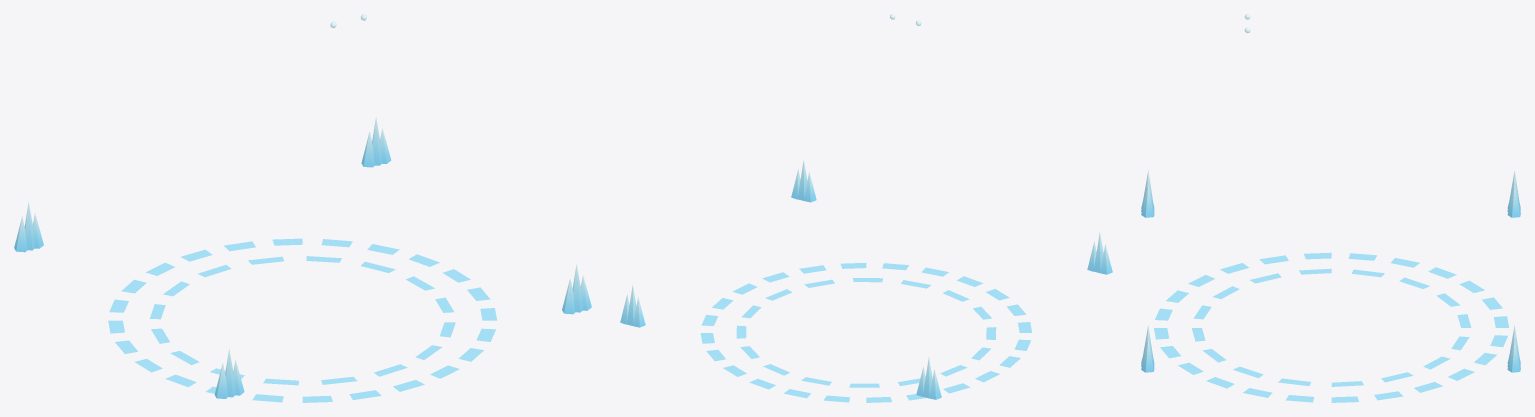
The model's file is altar3_glow.glb.
The picture shows the model from 3 angles, left to right: view 1: azimuth 30°, elevation 25°; view 2: azimuth 150°, elevation 25°; view 3: azimuth 270°, elevation 25°; orthographic projection. The views are drawn at different scales.
Parts seen in each view (by area): view 1: altar3_glow; view 2: altar3_glow; view 3: altar3_glow.
Boxes of the visible parts, left/top/right/bottom form: altar3_glow: left=14, top=14, right=591, bottom=402; altar3_glow: left=620, top=14, right=1112, bottom=402; altar3_glow: left=1141, top=14, right=1520, bottom=402.
Bounding box in the file's own units: 7.63 × 6.54 × 7.33.
Materials: 1 (1 with a texture image).
